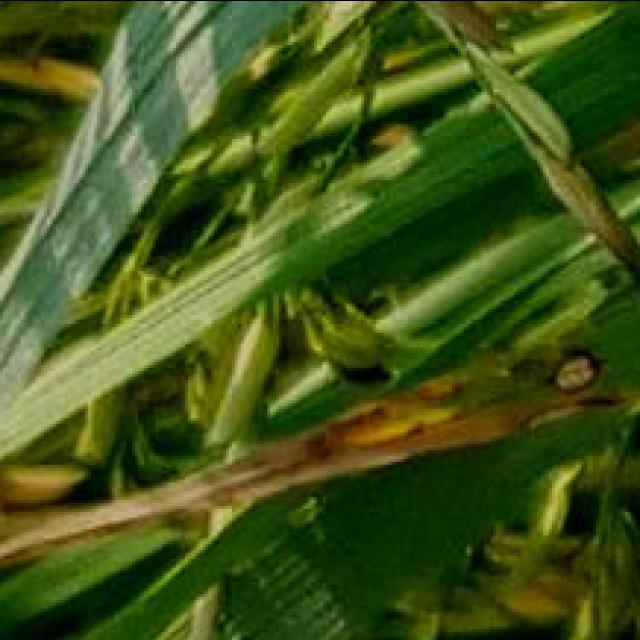Bacterial_Leaf_Blight: (0, 344, 593, 590)
